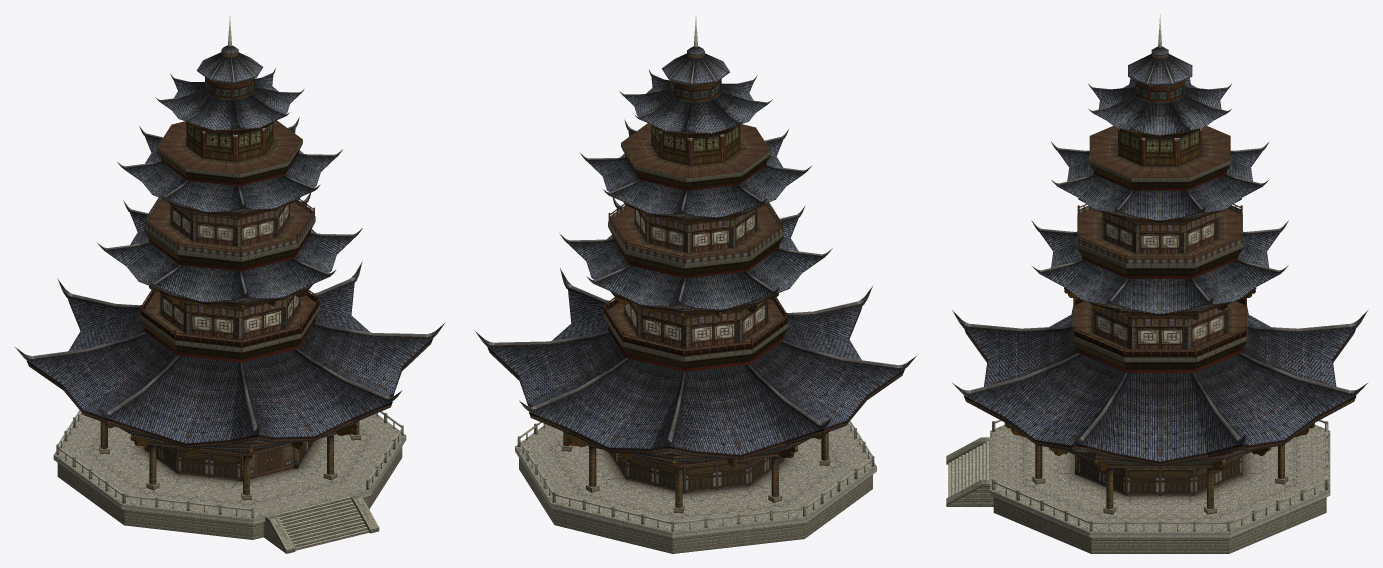
Rendered from milgyo_4fbuilding.fbx.
3 renders of one model, left to right at view 1: azimuth 30°, elevation 25°; view 2: azimuth 150°, elevation 25°; view 3: azimuth 270°, elevation 25°, orthographic. The views are drawn at different scales.
Parts seen in each view (by area): view 1: milgyo_4Fbuilding; view 2: milgyo_4Fbuilding; view 3: milgyo_4Fbuilding.
Boxes of the visible parts, bbox=[...] form: milgyo_4Fbuilding: bbox=[14, 16, 445, 553]; milgyo_4Fbuilding: bbox=[474, 16, 917, 553]; milgyo_4Fbuilding: bbox=[946, 14, 1368, 553].
Size of the model in its own units: 41.91 by 52.06 by 42.44.
